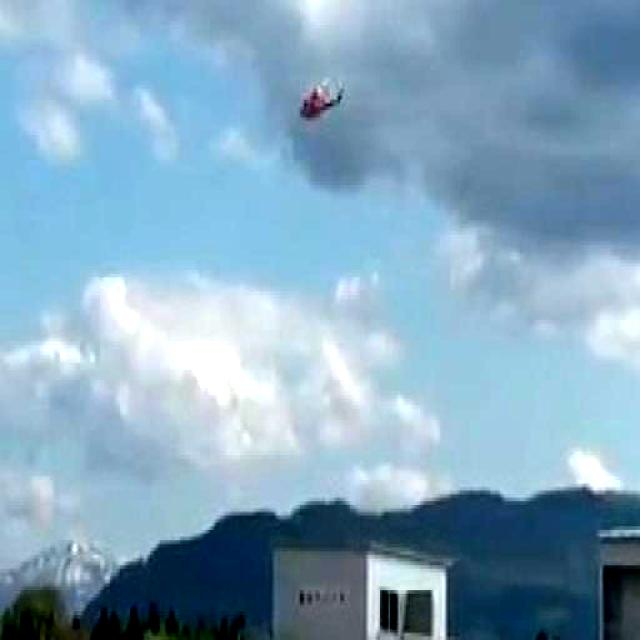drone: (296, 70, 351, 124)
